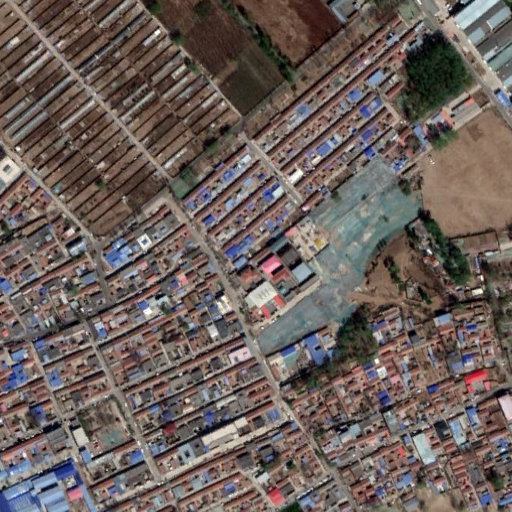cw: (255, 155, 420, 361)
